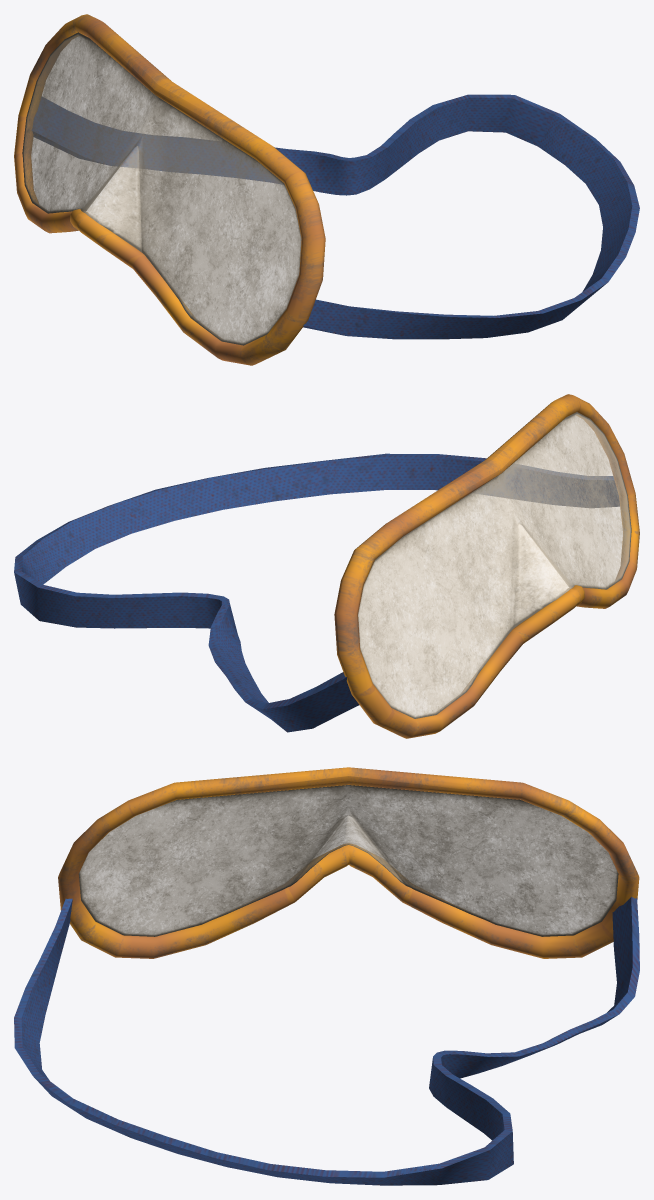
File: safety_goggles.glb
3 renders of one model, top to bottom at view 1: azimuth 30°, elevation 25°; view 2: azimuth 150°, elevation 25°; view 3: azimuth 270°, elevation 25°, orthographic. The views are drawn at different scales.
Parts seen in each view (by area): view 1: Cylinder001_Material #26_0; view 2: Cylinder001_Material #26_0; view 3: Cylinder001_Material #26_0.
Boxes of the visible parts, x1,y1,x2,y2 form: Cylinder001_Material #26_0: (14,14,639,365); Cylinder001_Material #26_0: (14,394,639,738); Cylinder001_Material #26_0: (14,767,639,1185).
Size of the model in its own units: 1 by 0.3597 by 0.985.
1 material, 1 textured.
